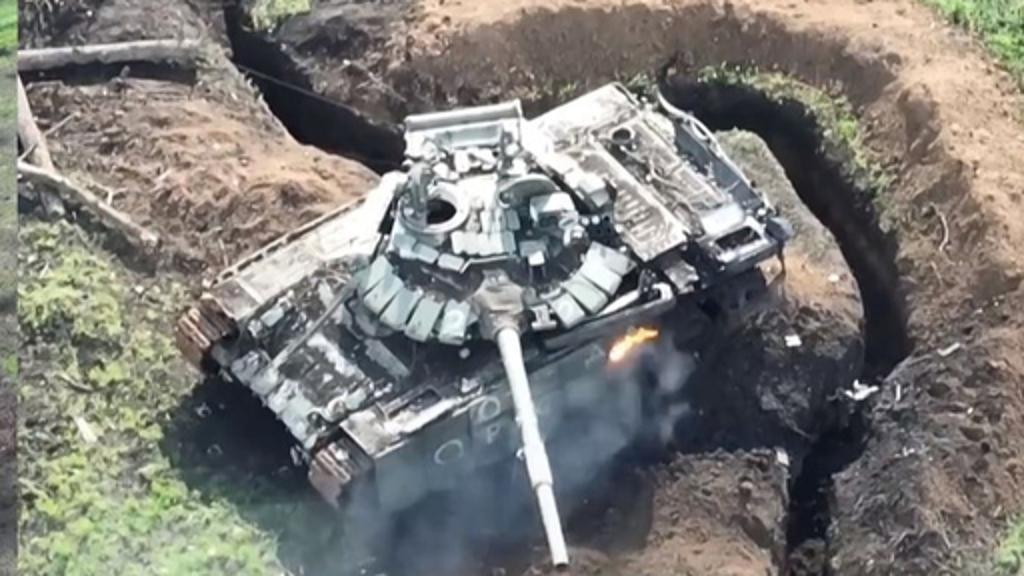TANK: (148, 68, 794, 572)
